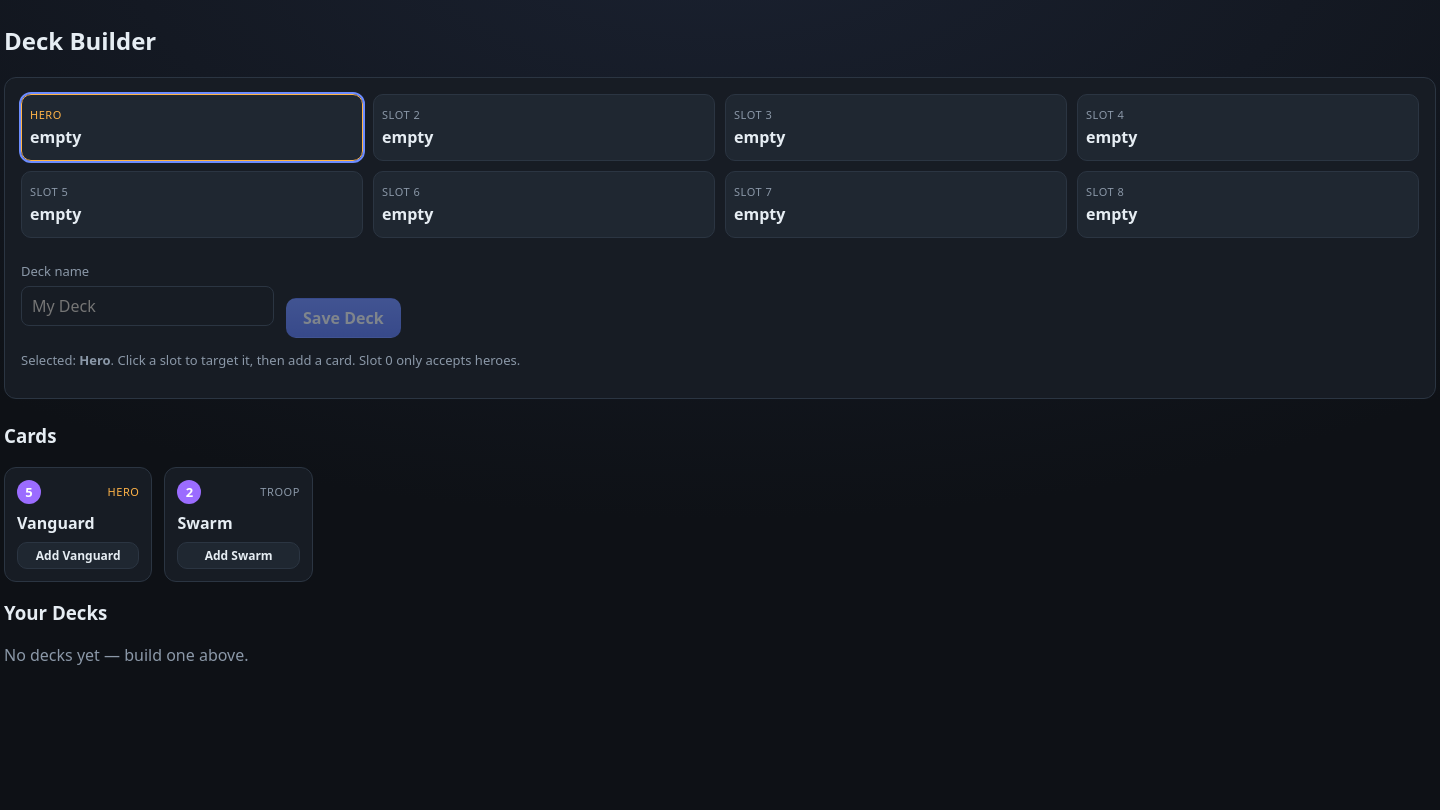
Test: Collection deck builder › blocks a non-hero card in slot 0 and does not attempt to save
This screenshot has width=1440, height=810.
# Slot 0 (Hero) is selected by default. Adding a troop must be rejected.
What coordinates should you click on to do the following:
click the button "Add Swarm"
I would click on:
 (239, 555)
Its box is top-left (177, 542), bottom-right (300, 569).
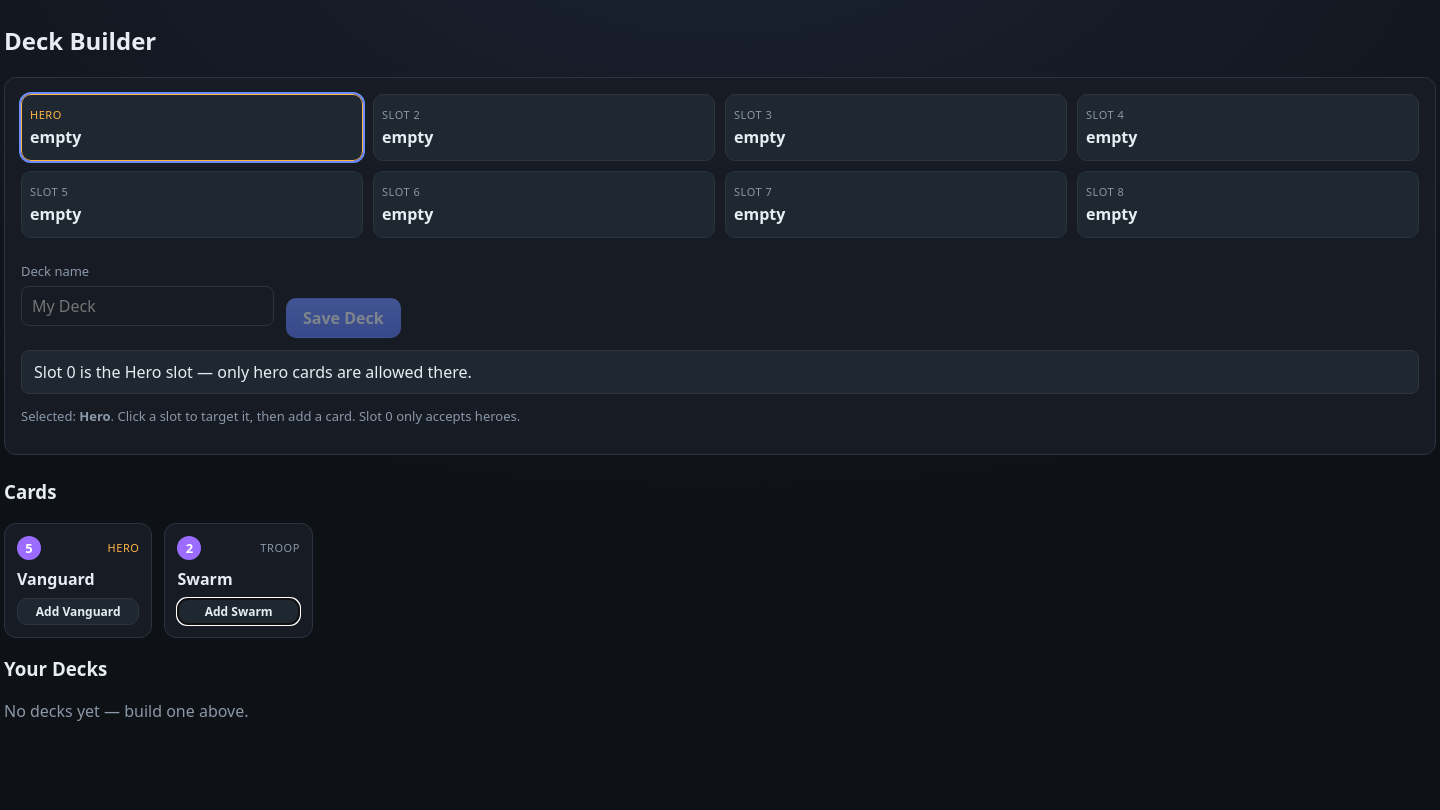
Expected: the button with aria-label "select hero slot" shows "empty", top-left (22, 95), bottom-right (362, 160)
Result: the message shows "Hero" at top-left (34, 361), bottom-right (472, 383)
